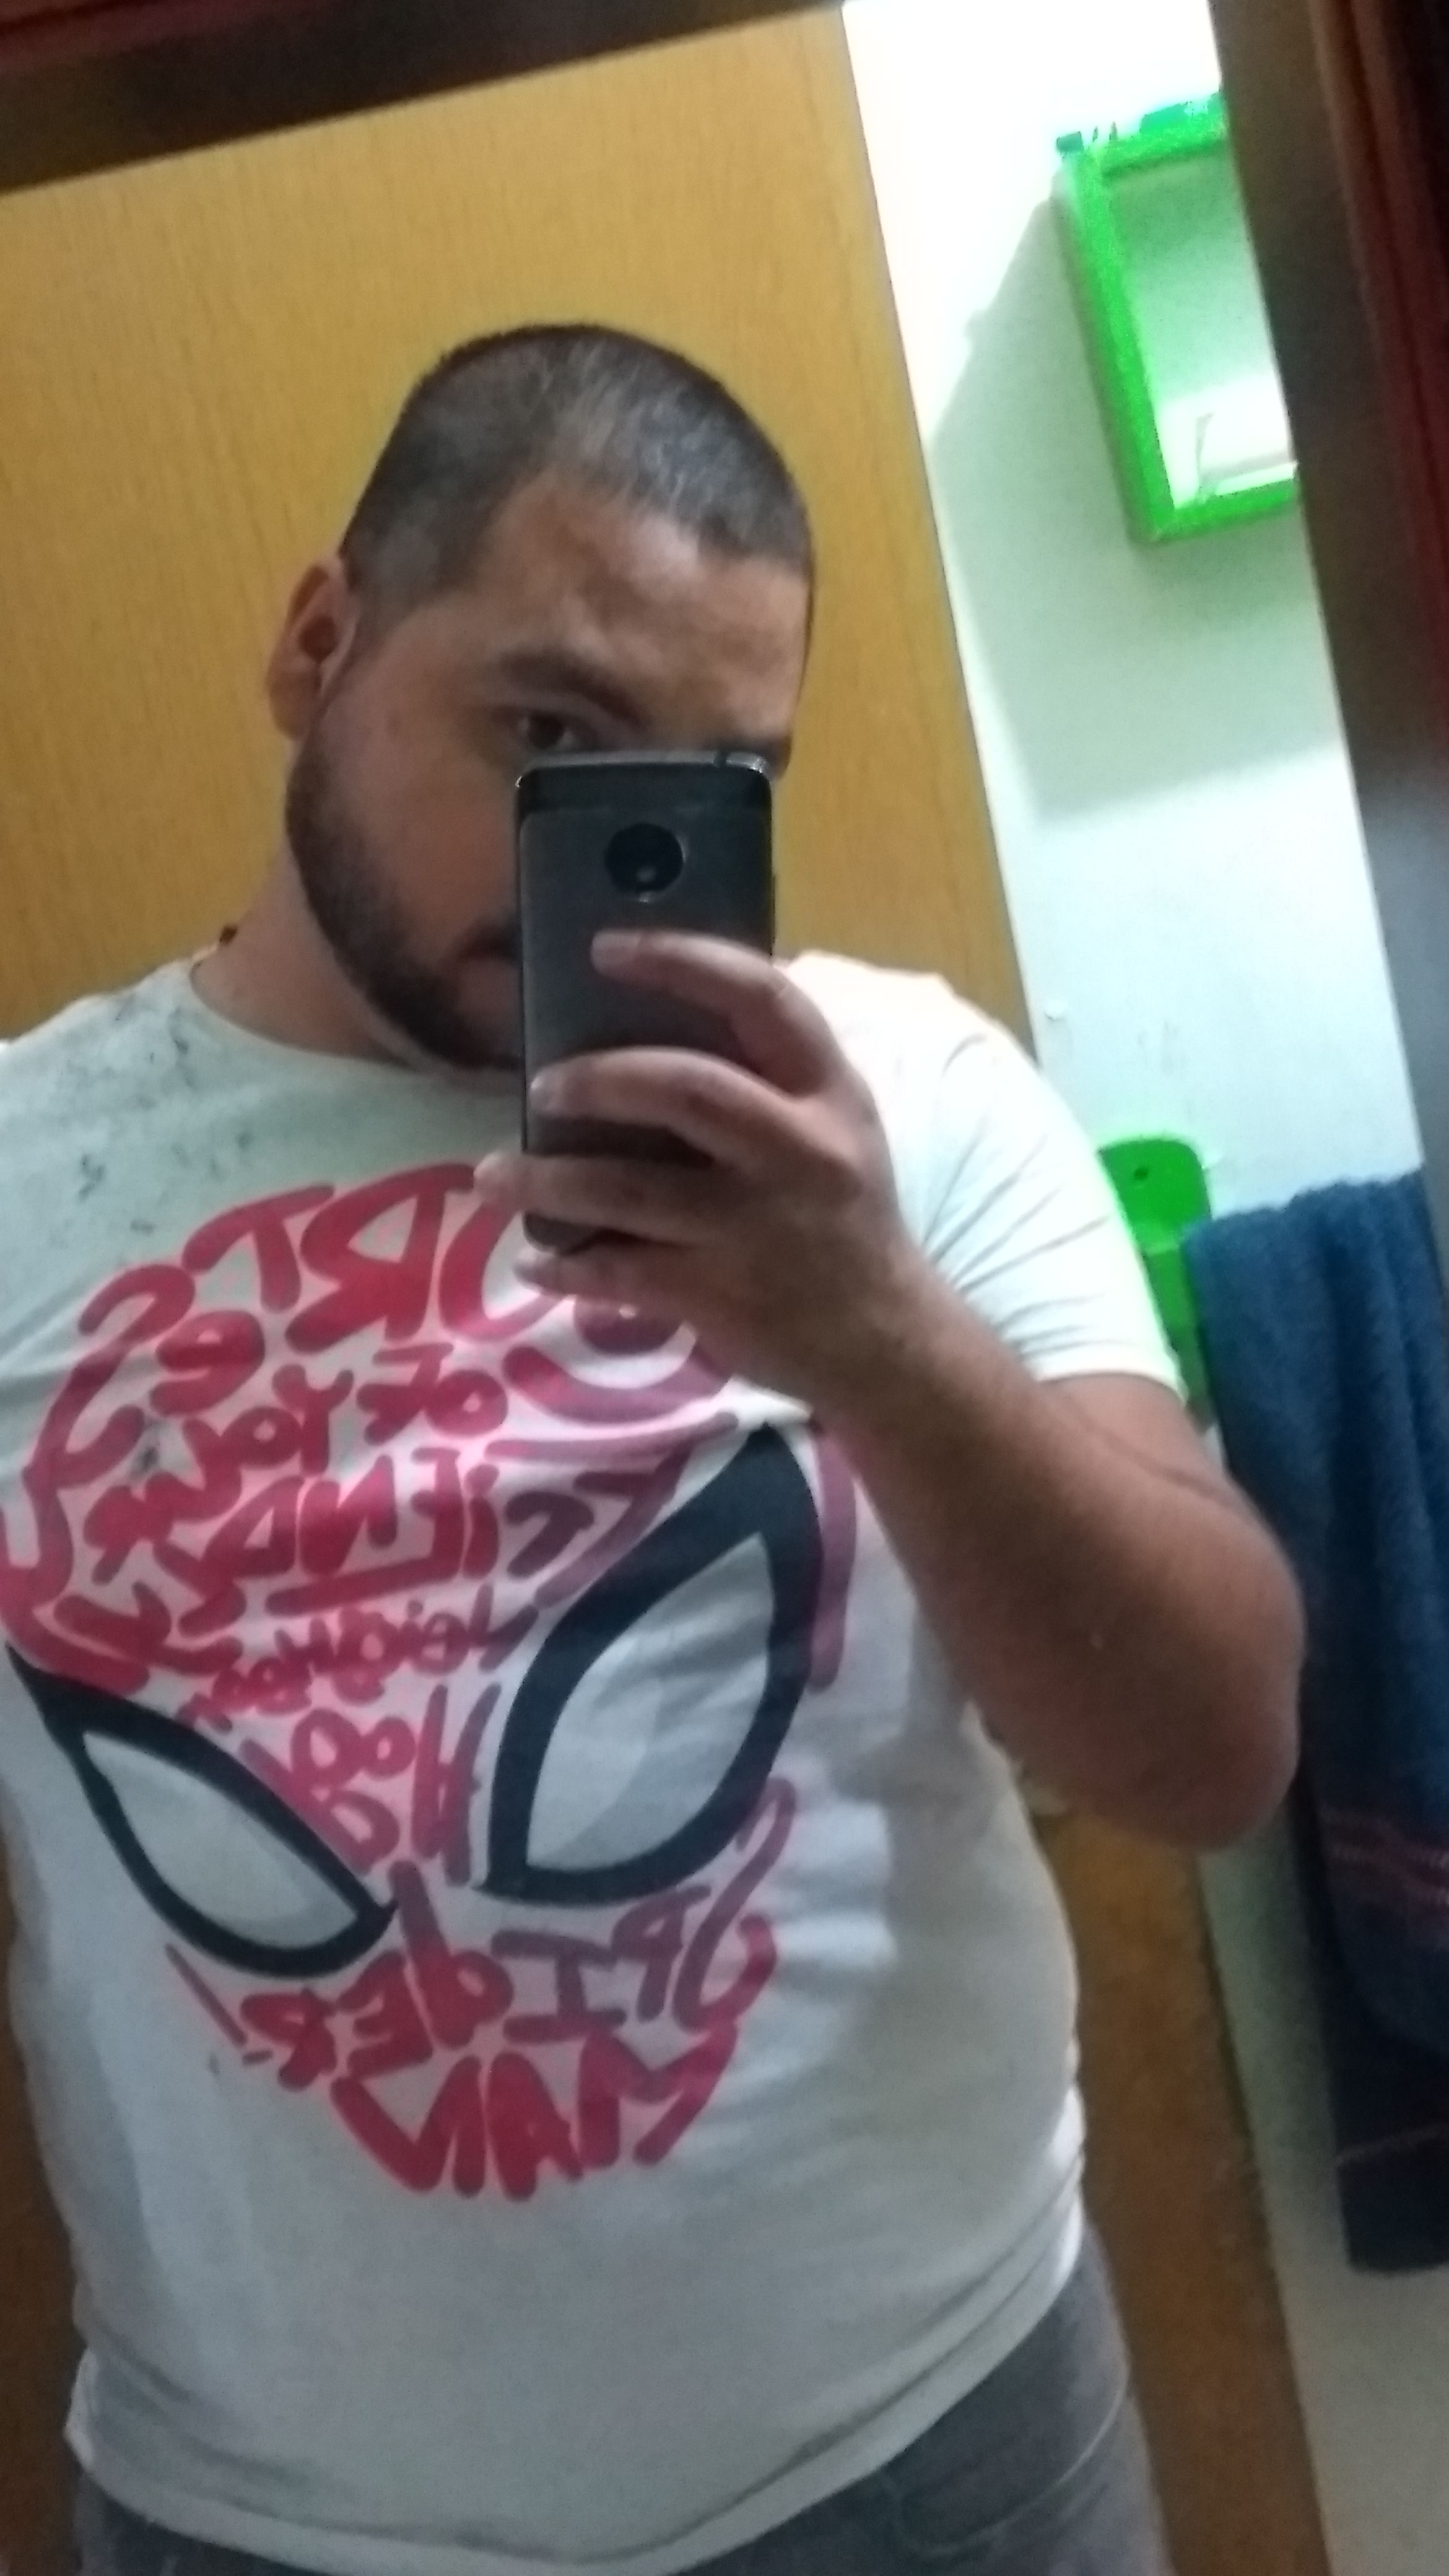Yoshi: (152, 262, 1019, 1376)
